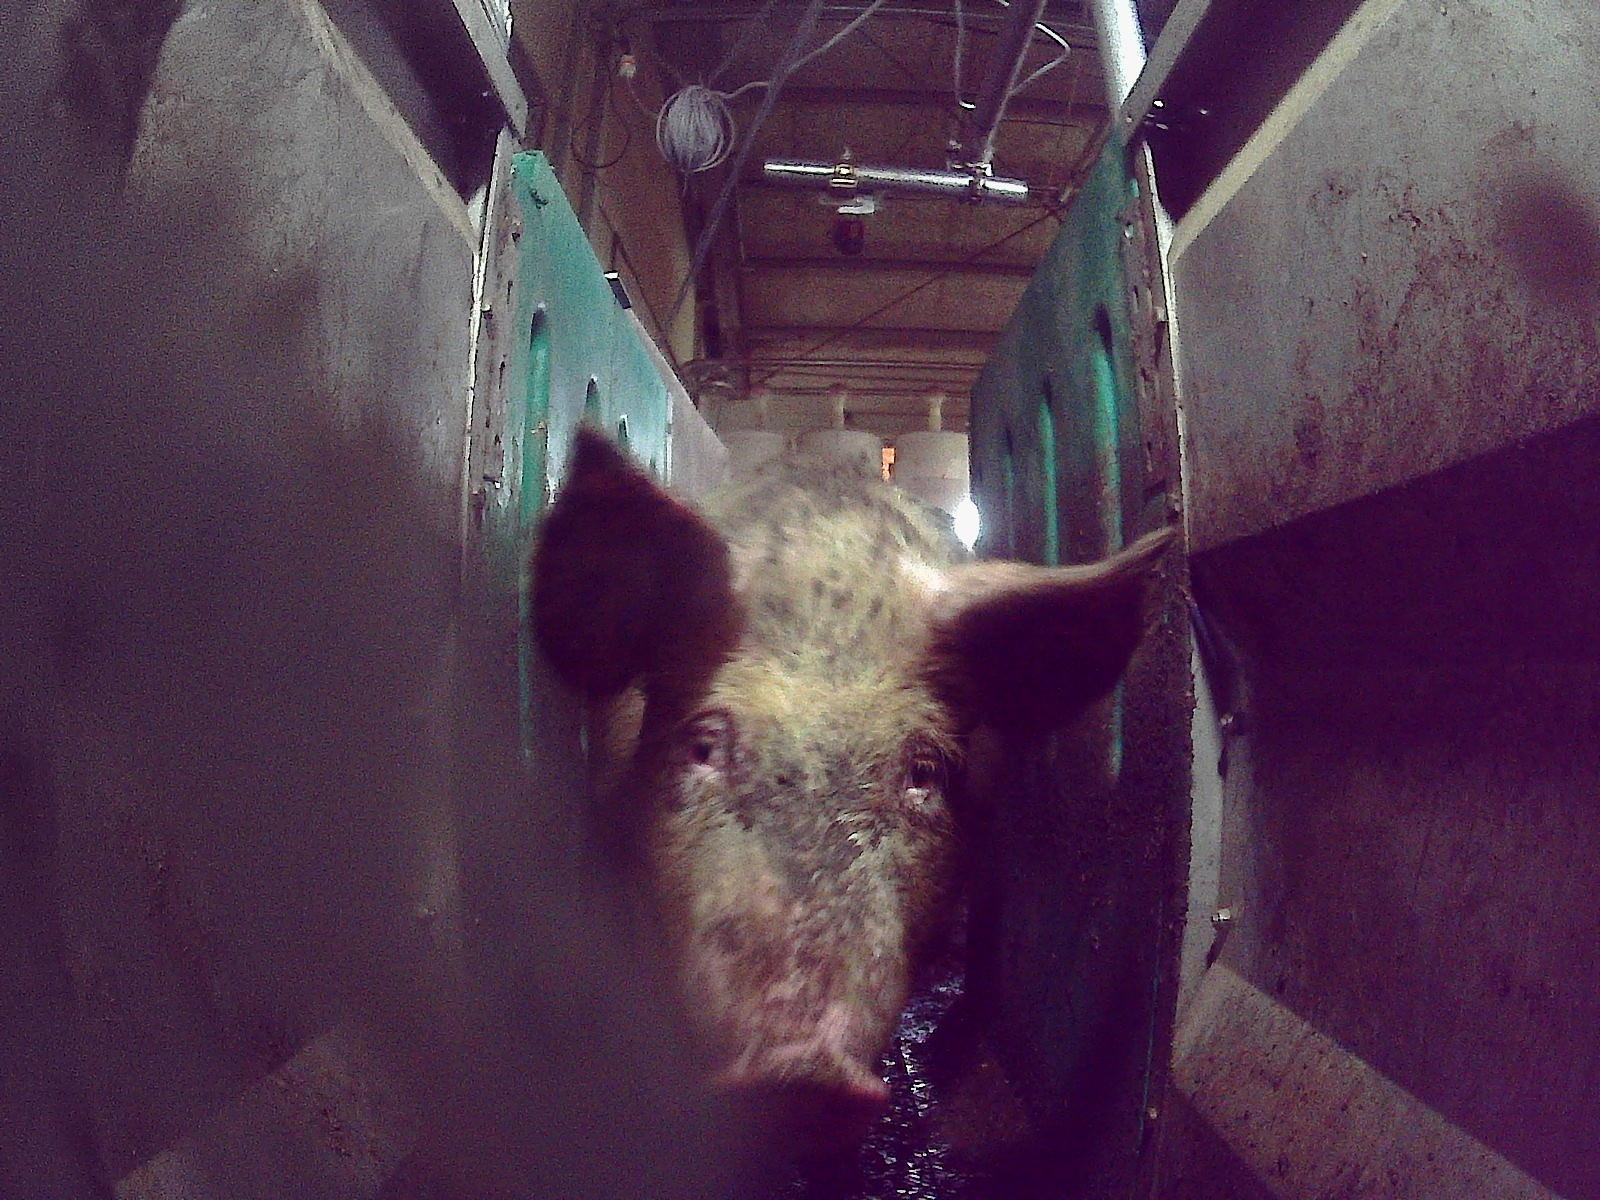Face: (643, 590, 969, 1156)
